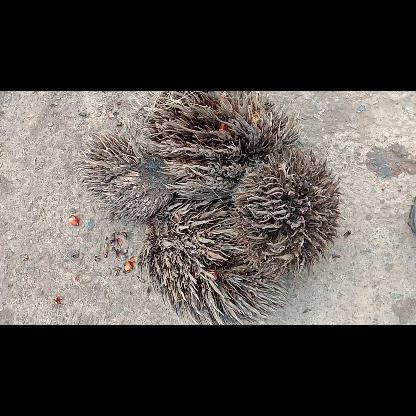Janjang kosong: (136, 198, 288, 324), (131, 90, 300, 198), (232, 149, 342, 279), (72, 128, 174, 222)
